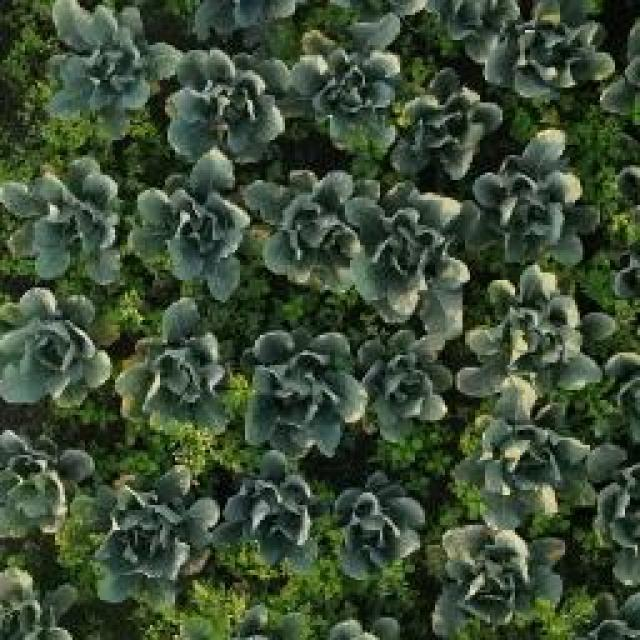cabbage: (462, 274, 598, 408), (346, 182, 464, 334), (460, 397, 596, 528), (131, 148, 252, 293), (91, 467, 216, 606), (245, 163, 368, 295), (42, 0, 170, 125), (115, 292, 235, 425), (427, 525, 572, 634), (470, 135, 588, 268), (289, 21, 400, 154), (2, 157, 125, 275), (168, 43, 290, 161), (470, 0, 612, 100), (212, 449, 328, 571), (0, 284, 112, 408), (396, 67, 507, 182), (328, 465, 428, 581), (0, 423, 89, 547), (253, 334, 355, 440), (364, 334, 448, 423)
